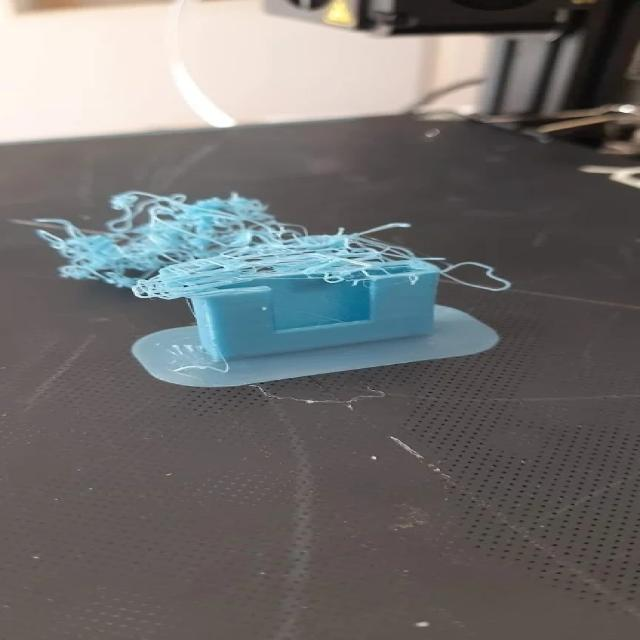spaghetti: (12, 187, 493, 335)
